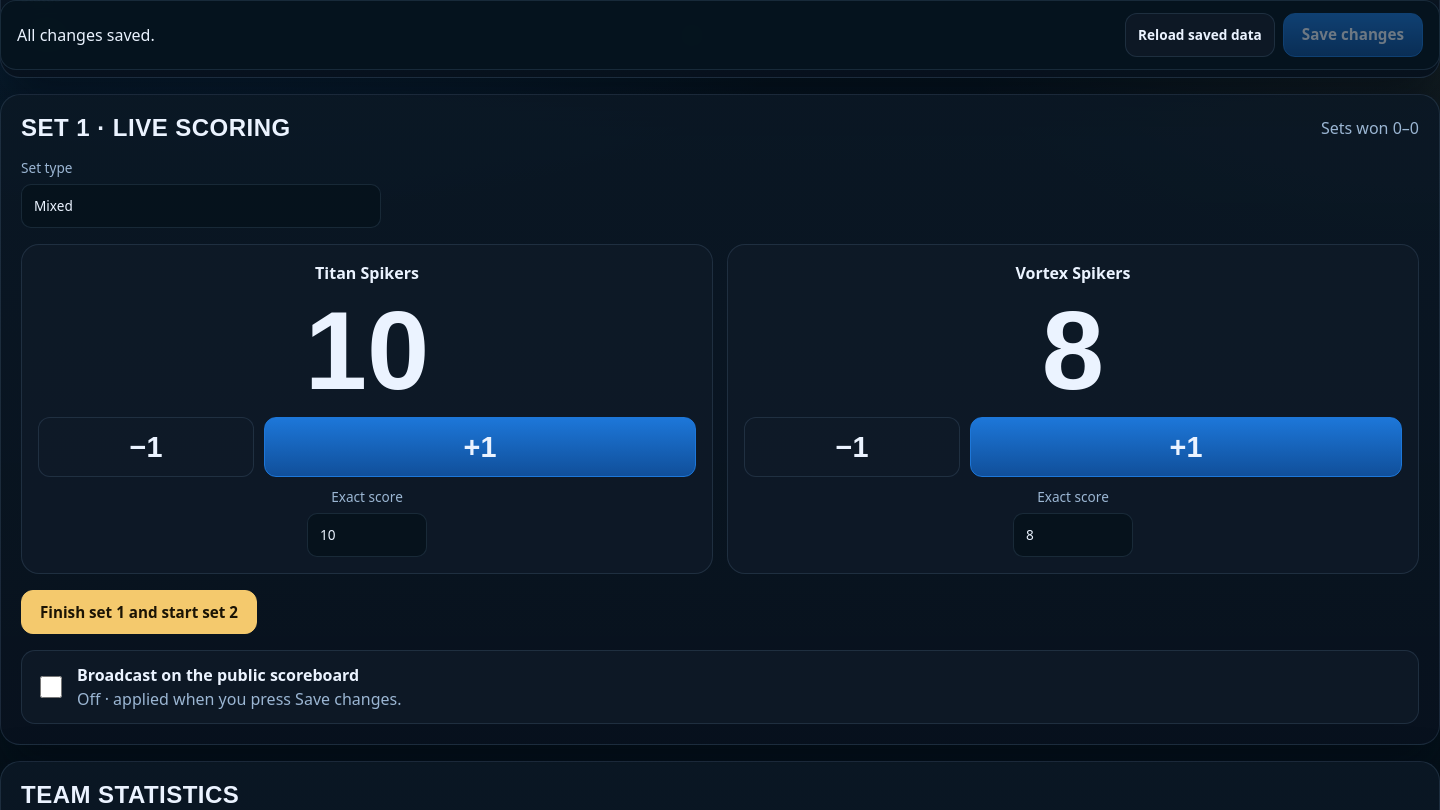
Scenario: match editor: drafts stay private until saved › starts clean; editing makes an unsaved draft and sends nothing to the server
(page scrolled)
Expected: the text "All changes saved." is shown, [17, 23, 155, 47]
Click the button named "add a point to titan spikers". click: [480, 447]
box: [264, 417, 696, 477]
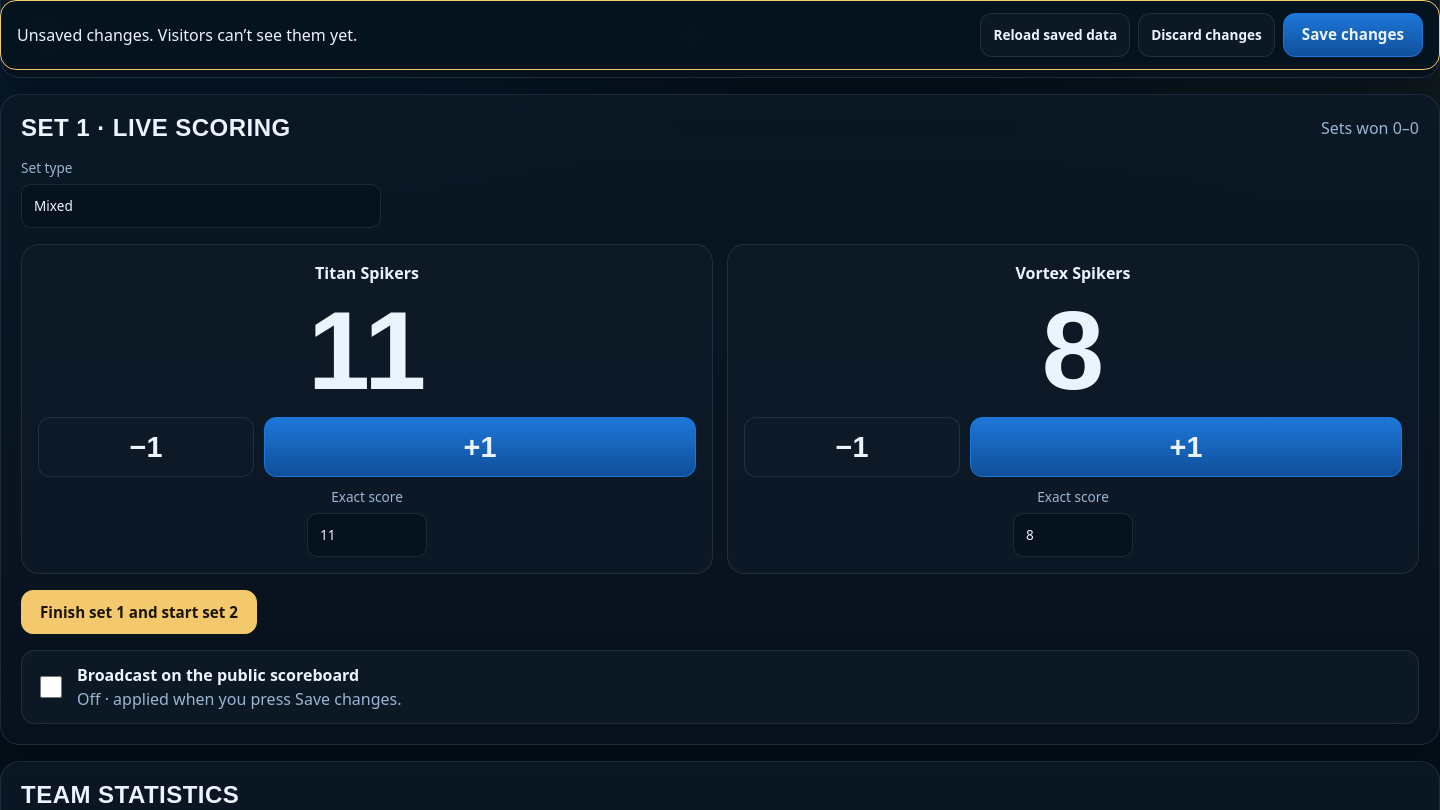
Now the text "Unsaved changes. Visitors can’t see them yet." is shown, box [17, 23, 357, 47]
